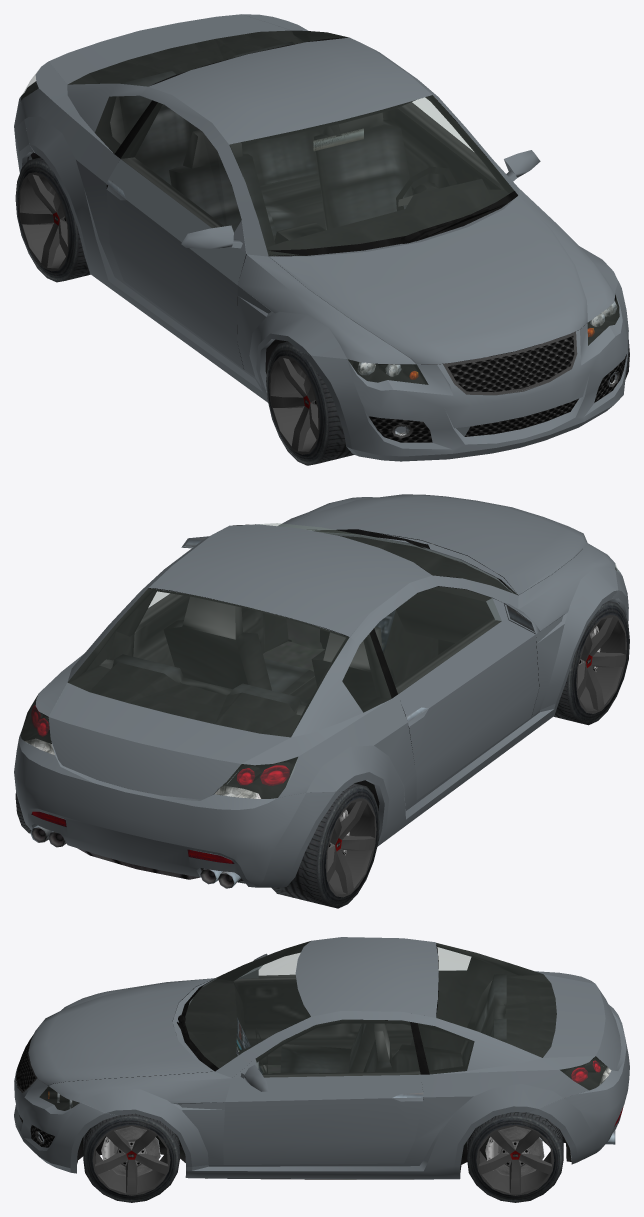
Rendered from sportCoupe.fbx.
The picture shows the model from 3 angles, top to bottom: view 1: azimuth 30°, elevation 25°; view 2: azimuth 150°, elevation 25°; view 3: azimuth 270°, elevation 25°; orthographic projection. The views are drawn at different scales.
Parts seen in each view (by area): view 1: SportCoupe, SCTire_FR, SCTire_RR, SportCoupe_SteeringWheel; view 2: SportCoupe, SCTire_RR, SCTire_FR; view 3: SportCoupe, SCTire_RL, SCTire_FL, SCBrake_FL, SCBrake_RL.
Part boxes in pixels (x1,y1,x2,y2): SportCoupe: [14, 14, 628, 461]; SCTire_FR: [266, 341, 354, 465]; SCTire_RR: [15, 157, 90, 282]; SportCoupe_SteeringWheel: [396, 166, 456, 210]; SportCoupe: [14, 494, 628, 888]; SCTire_RR: [271, 783, 379, 908]; SCTire_FR: [553, 601, 629, 725]; SportCoupe: [14, 937, 629, 1179]; SCTire_RL: [467, 1112, 563, 1202]; SCTire_FL: [83, 1113, 179, 1202]; SCBrake_FL: [101, 1126, 160, 1176]; SCBrake_RL: [485, 1126, 544, 1176].
Size of the model in its own units: 220 by 138 by 431.
